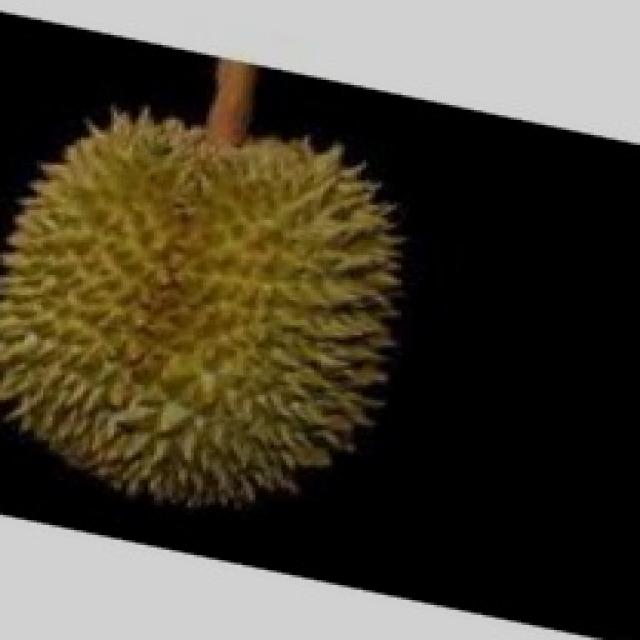fruit: (0, 95, 437, 535)
